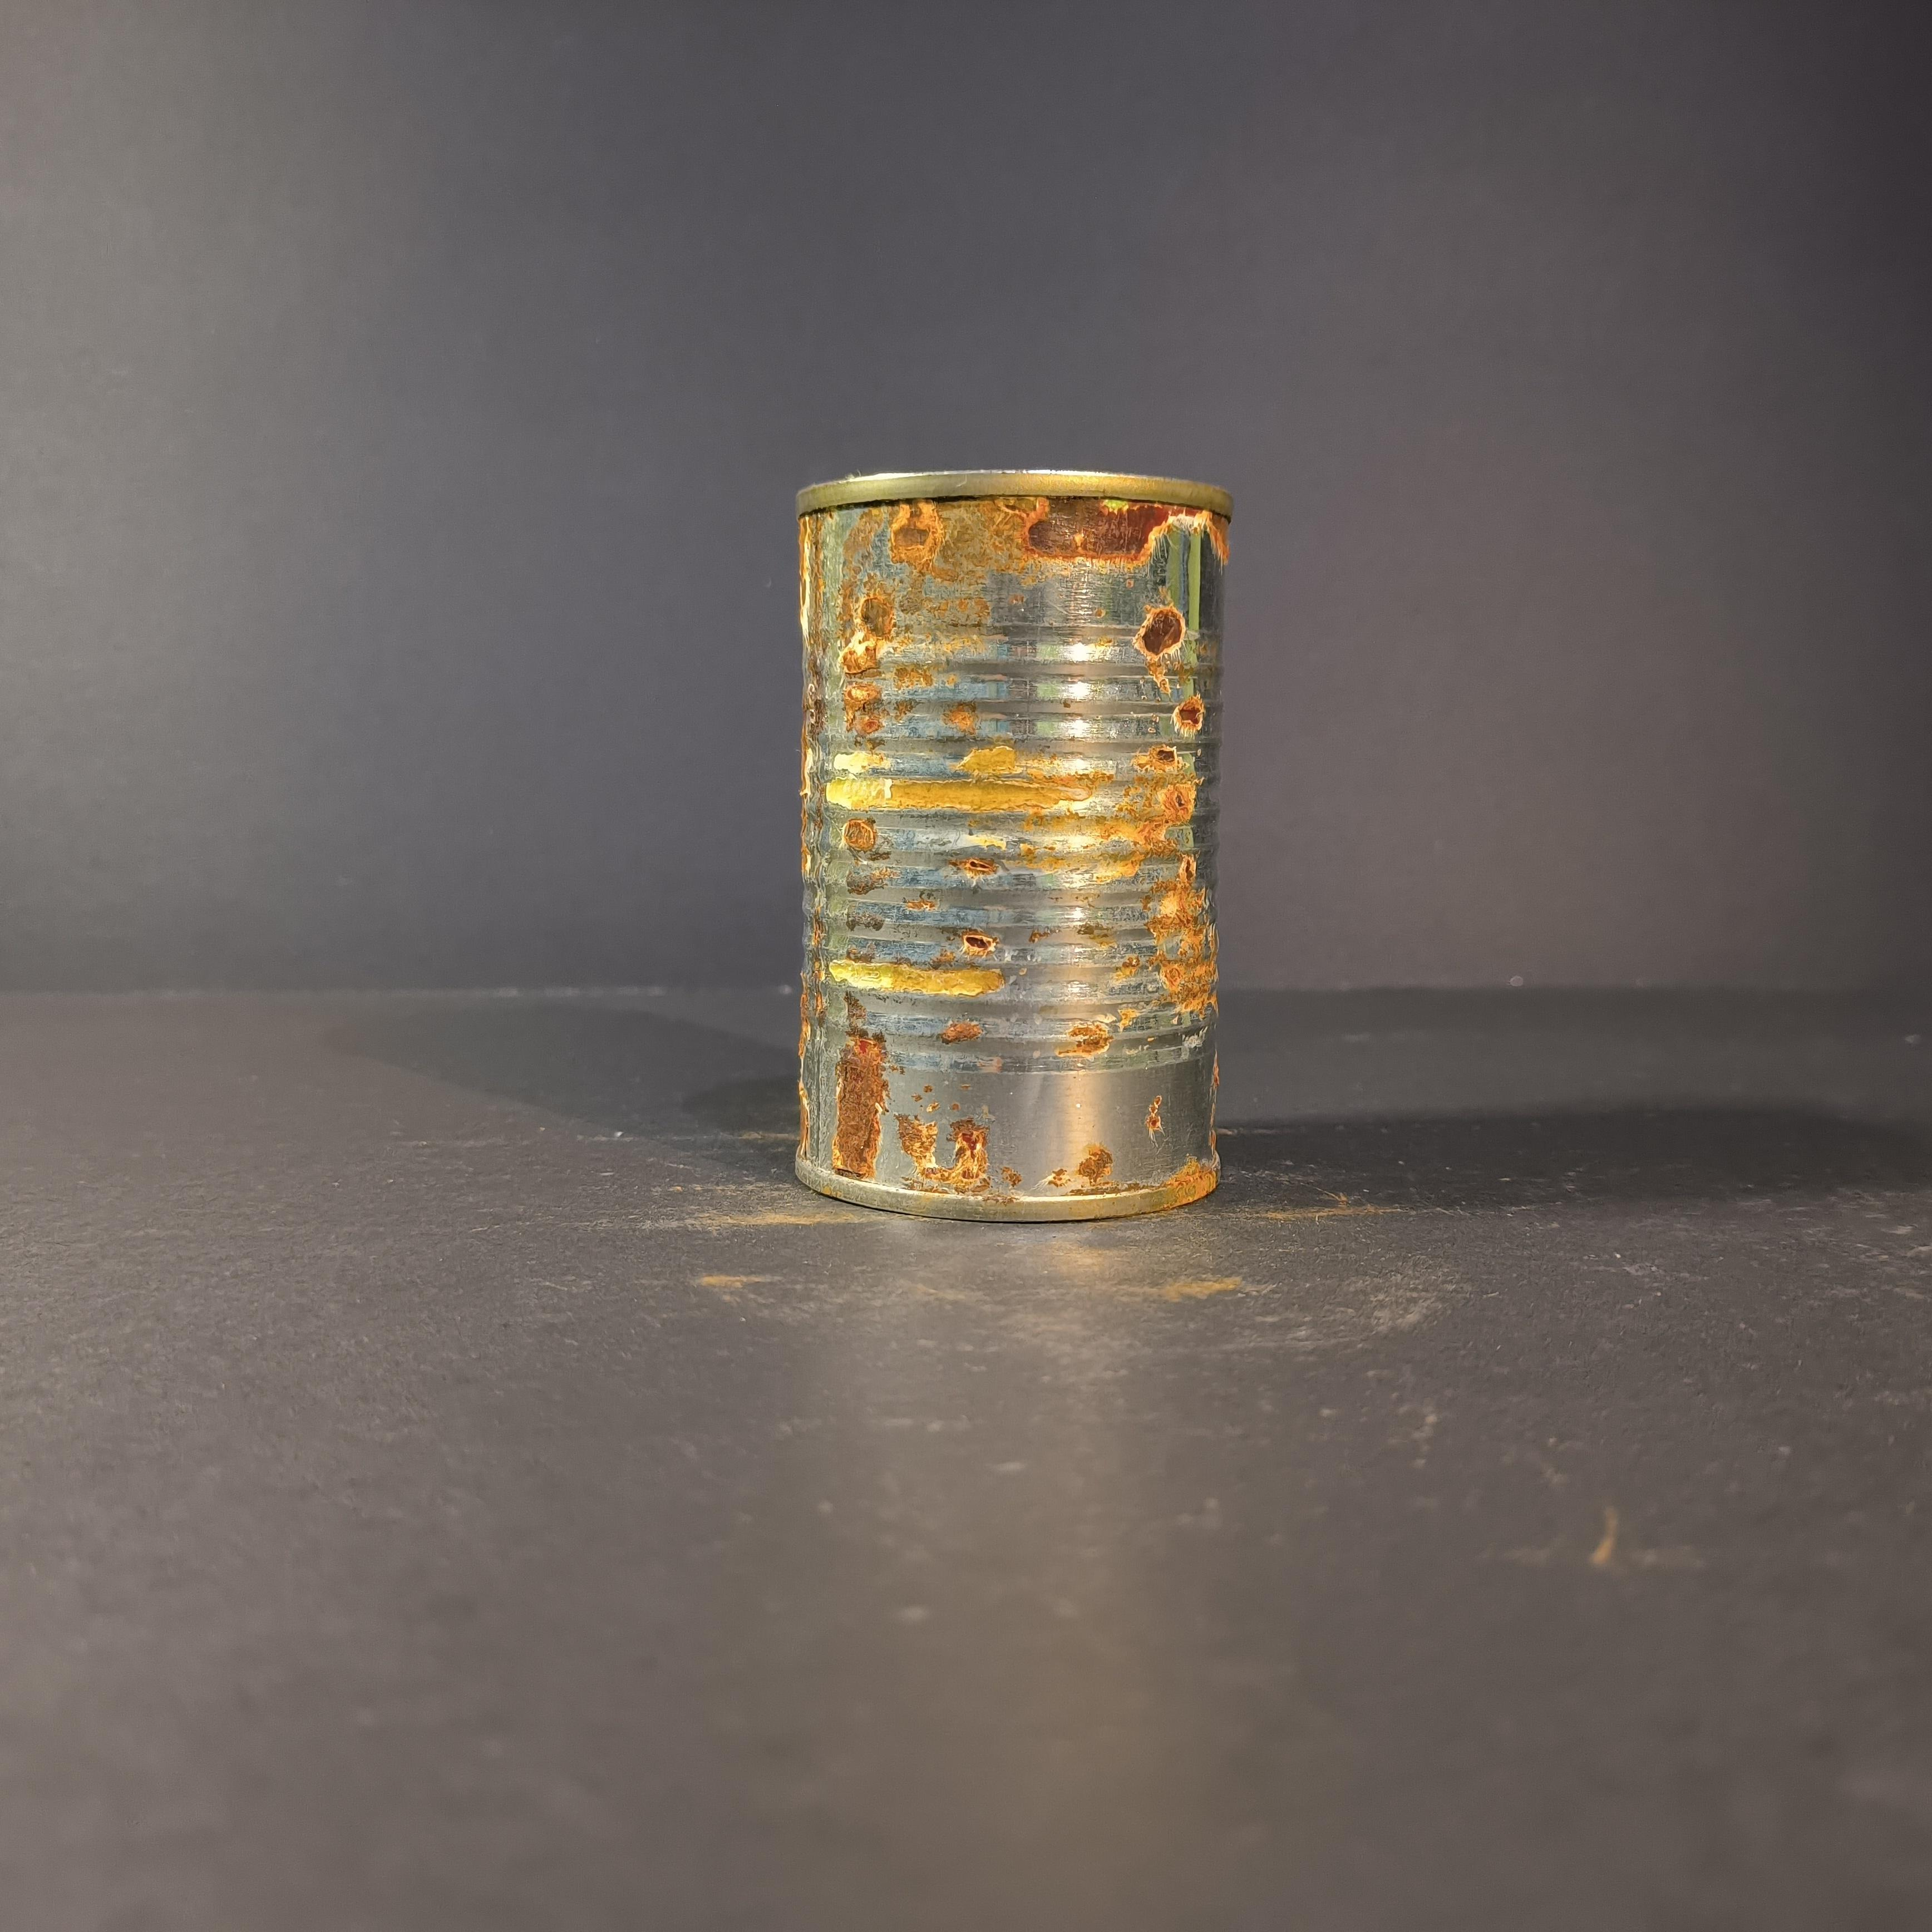Rusted: (768, 448, 1253, 1233)
